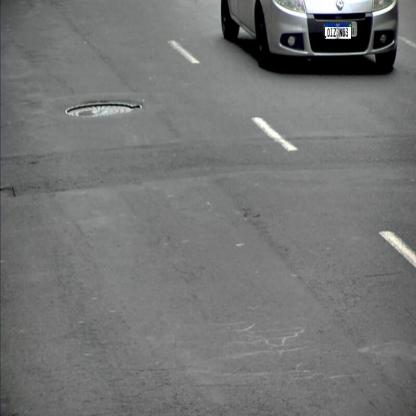PlacaM: (324, 22, 352, 40)
